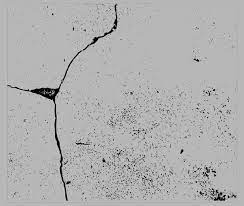crack: (57, 3, 119, 87), (52, 97, 68, 200), (7, 82, 60, 100)
